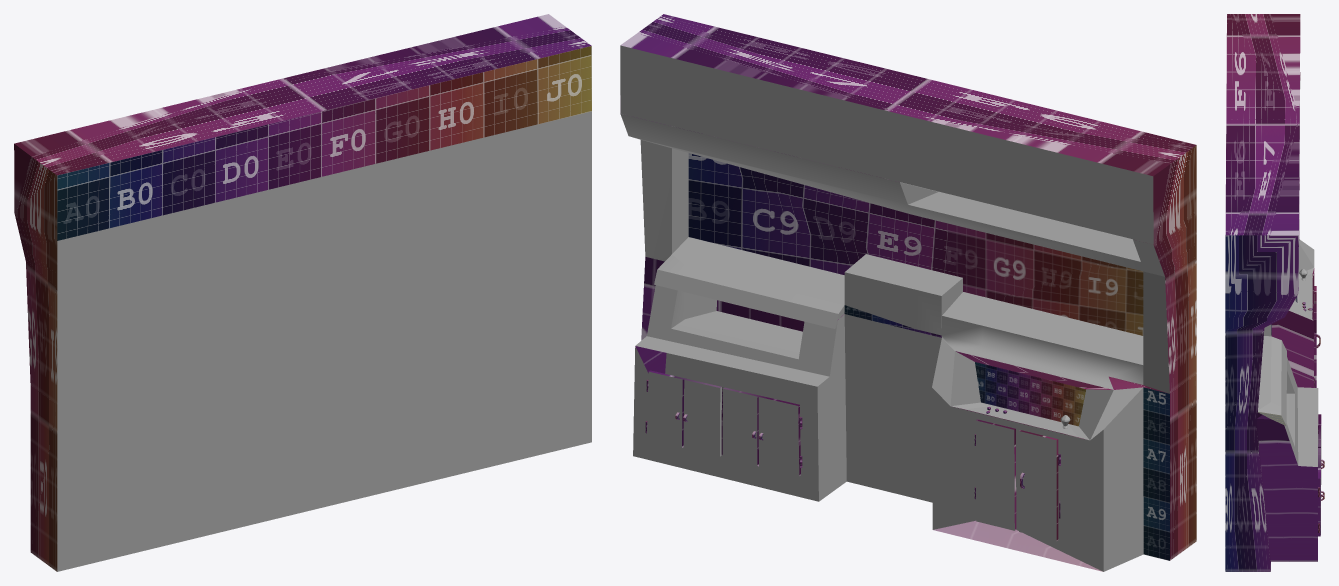
Rendered from Wall.fbx.
3 renders of one model, left to right at view 1: azimuth 30°, elevation 25°; view 2: azimuth 150°, elevation 25°; view 3: azimuth 270°, elevation 25°, orthographic. The views are drawn at different scales.
Visible parts, largest first — view 1: ObservationWall; view 2: ObservationWall; view 3: ObservationWall.
Boxes of the visible parts, x1,y1,x2,y2 form: ObservationWall: (14, 14, 591, 571); ObservationWall: (620, 14, 1196, 571); ObservationWall: (1225, 14, 1324, 571).
Size of the model in its own units: 28.37 by 20.29 by 5.36.
